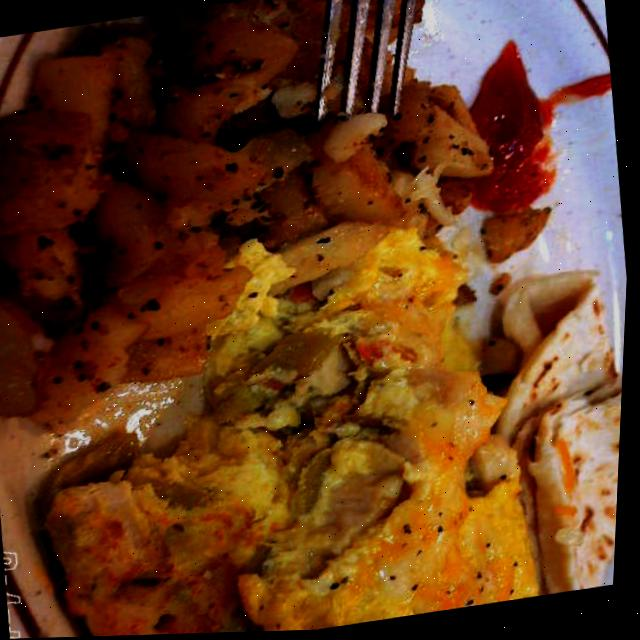鸡蛋料理: (28, 202, 551, 639)
